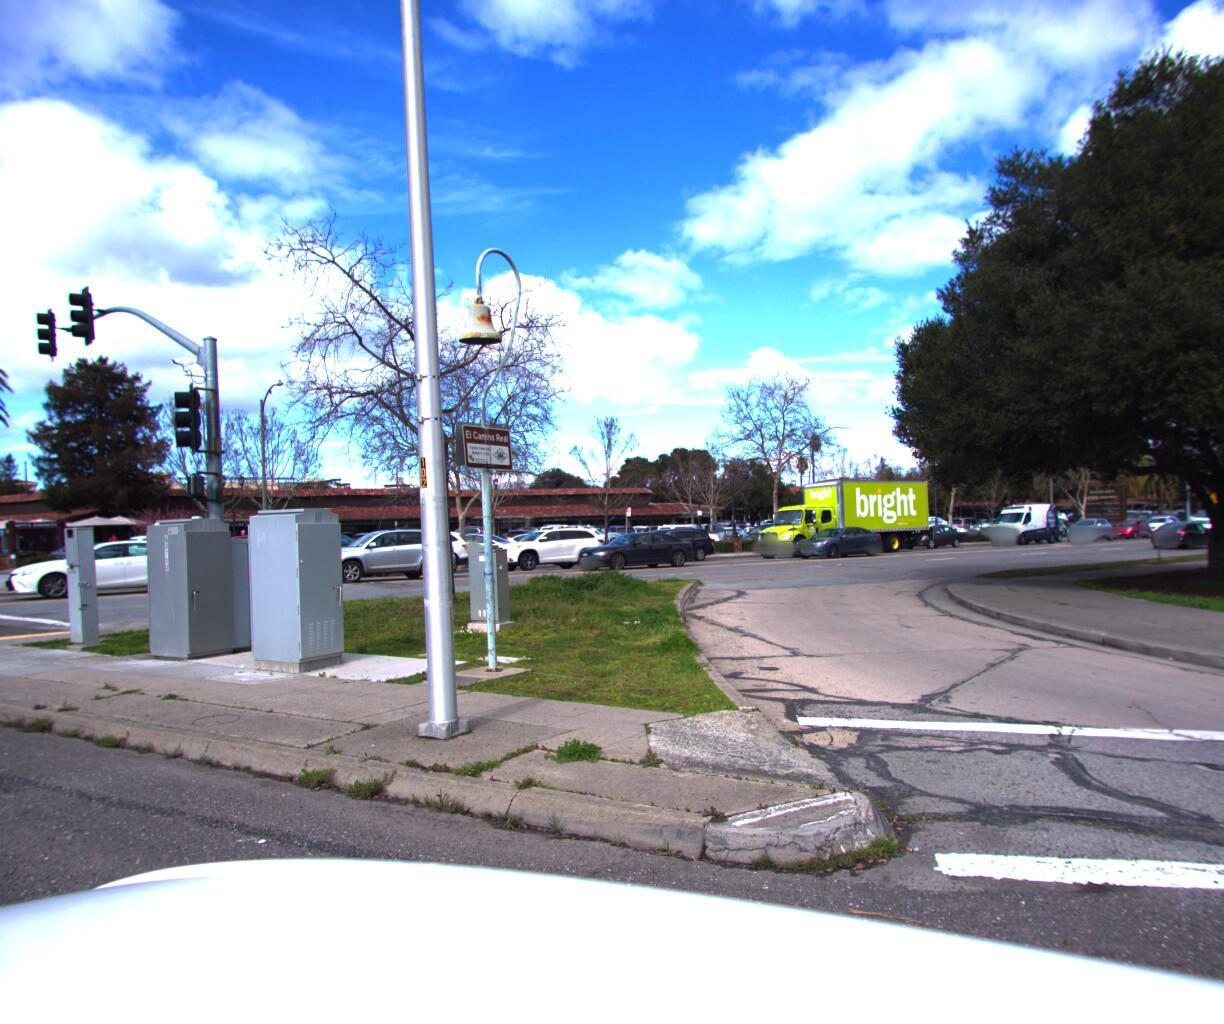car: (5, 536, 216, 604), (315, 527, 471, 587), (484, 524, 612, 573), (572, 526, 703, 573), (617, 525, 717, 566), (126, 528, 231, 567), (792, 525, 892, 562), (449, 528, 542, 561), (534, 521, 625, 551), (981, 500, 1059, 535), (653, 521, 732, 549), (1146, 520, 1217, 551), (1100, 516, 1158, 544), (898, 522, 961, 547), (1133, 513, 1187, 539), (1058, 516, 1114, 540), (956, 517, 1016, 538), (1208, 519, 1224, 548)
truck: (740, 485, 935, 569)
